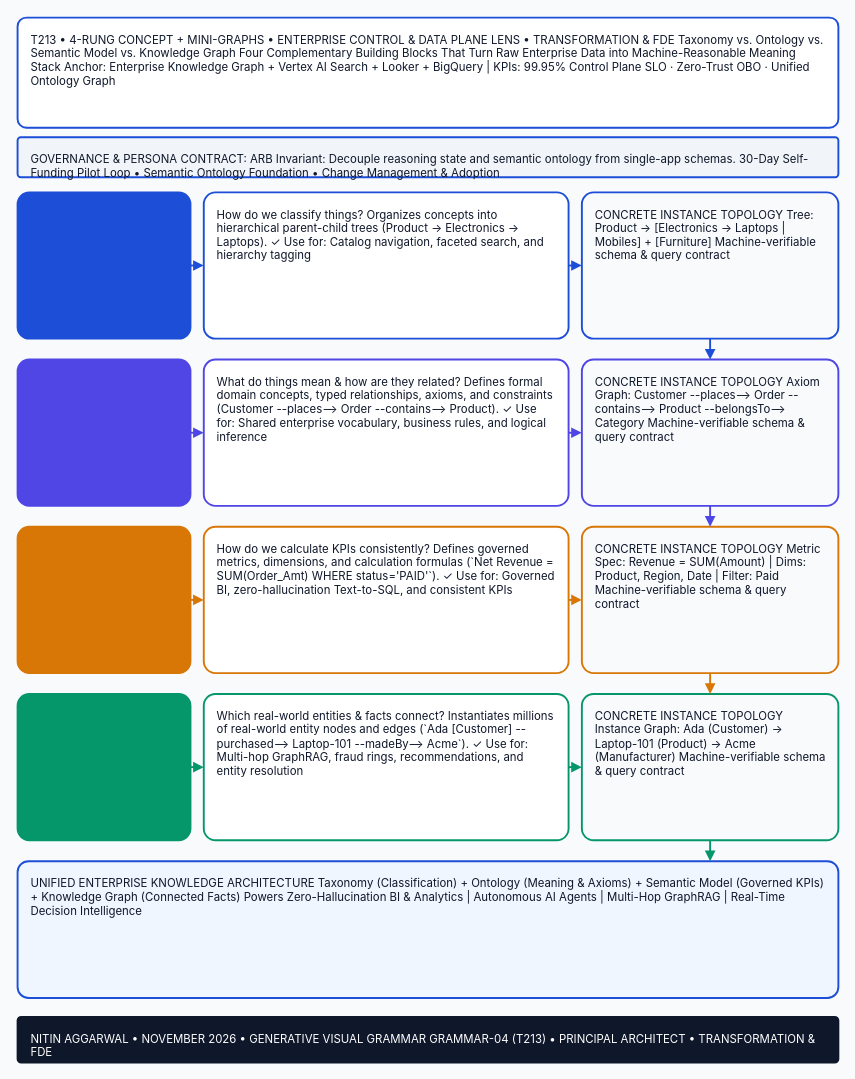
Image size: 855x1079. Some labels were removed from this diagram. Each missing label, with the centre of its shape:
"LAYER 01 TAXONOMY Complementary Foundation Pillar" belongs at point (103, 265).
"LAYER 02 ONTOLOGY Complementary Foundation Pillar" belongs at point (103, 432).
"LAYER 03 SEMANTIC MODEL Complementary Foundation Pillar" belongs at point (103, 599).
"LAYER 04 KNOWLEDGE GRAPH Complementary Foundation Pillar" belongs at point (103, 767).
